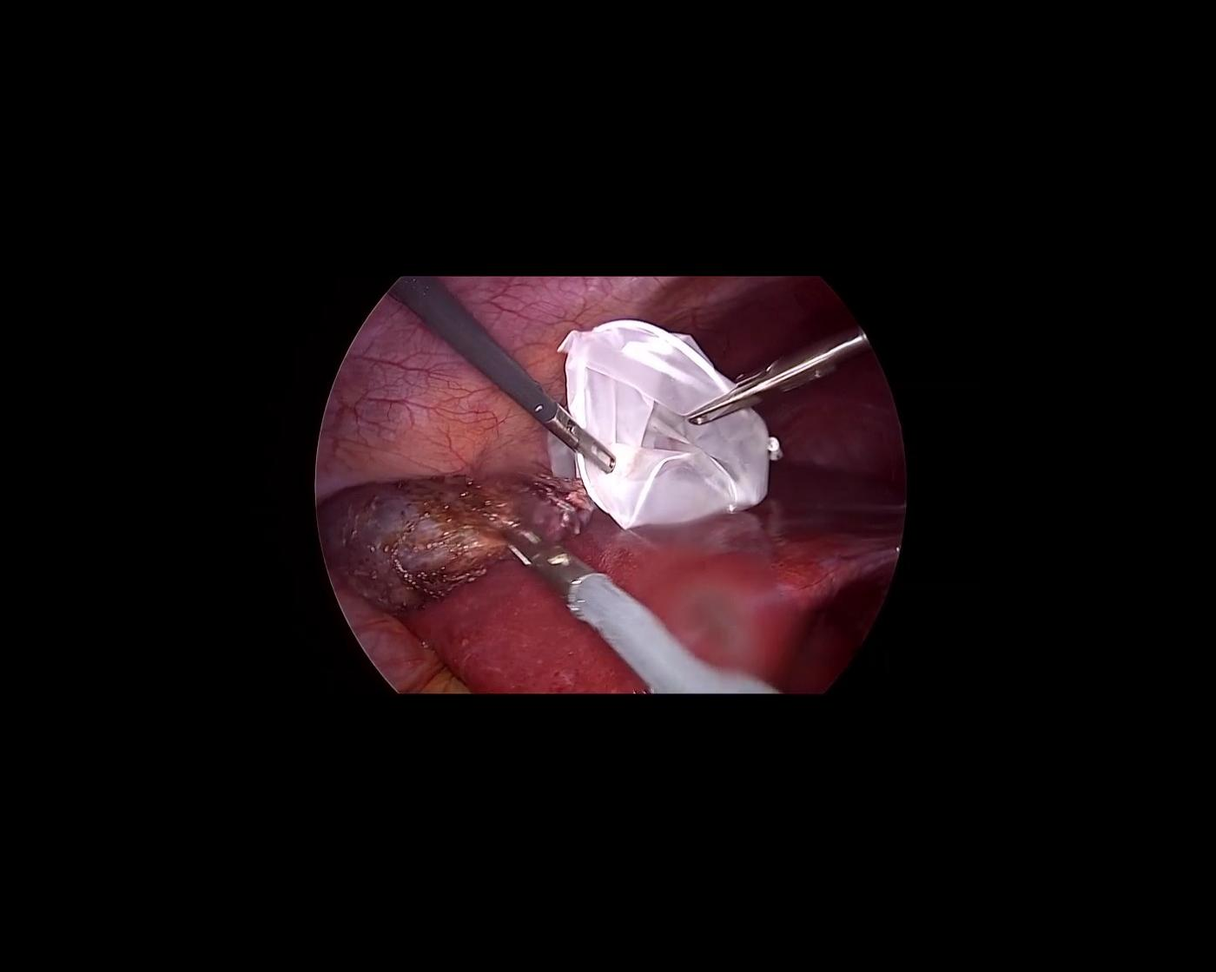Bag: (524, 293, 786, 546)
Forceps: (477, 516, 782, 753), (387, 258, 622, 493), (676, 320, 876, 429)
Gallbladder: (309, 422, 606, 633)
Liver: (398, 506, 903, 695)
